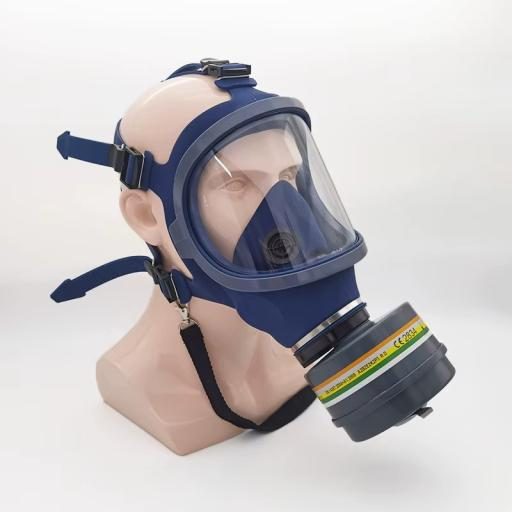mask: (216, 160, 472, 437)
